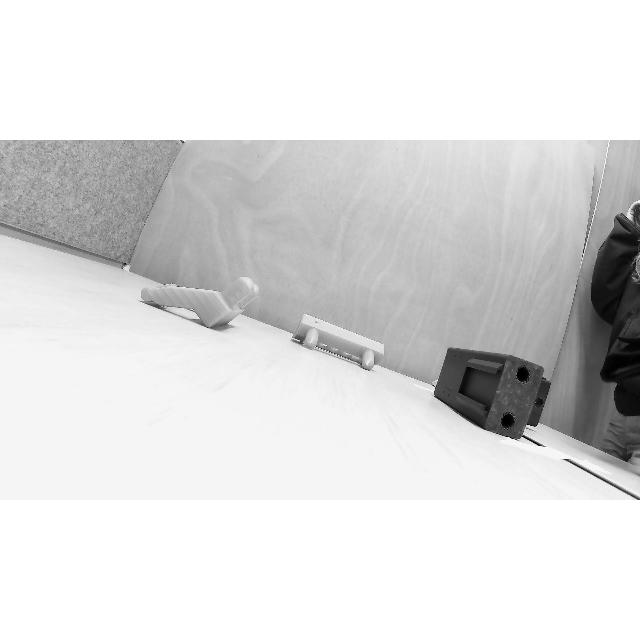targets: (426, 341, 568, 434), (135, 274, 269, 328), (298, 312, 394, 368)
